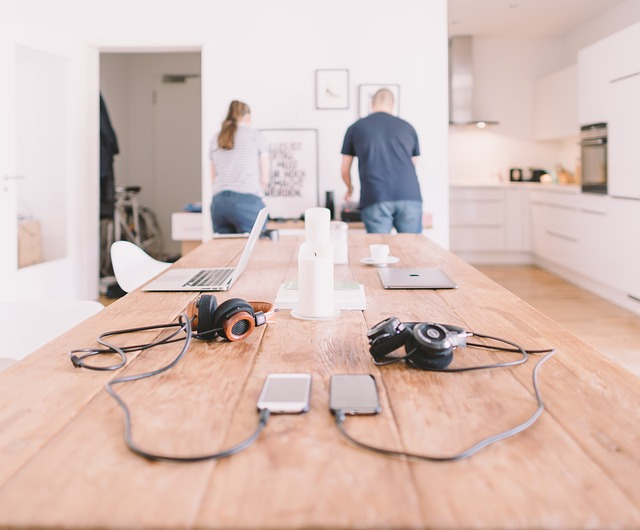headphones: (367, 317, 467, 371), (185, 295, 276, 342)
